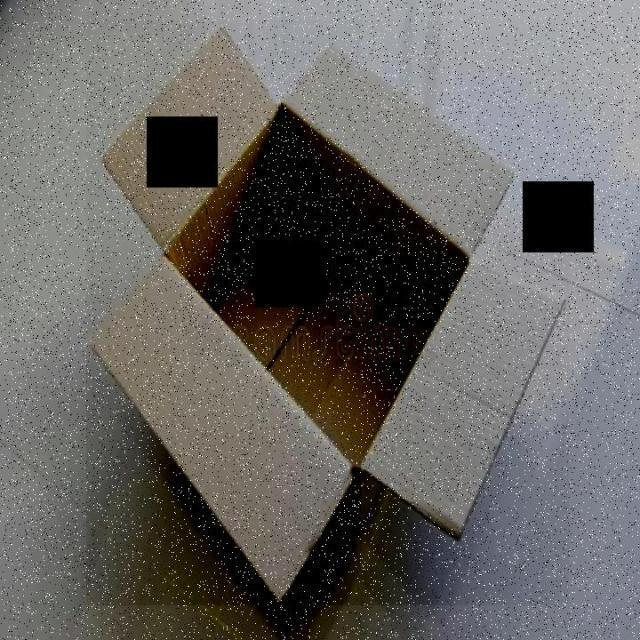box: (86, 21, 569, 606)
